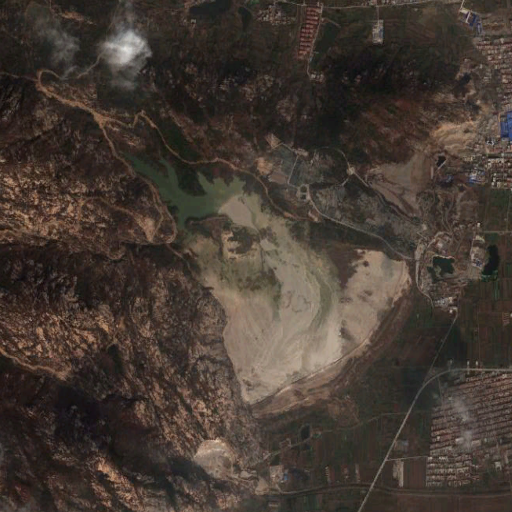tp: (99, 104, 411, 407)
